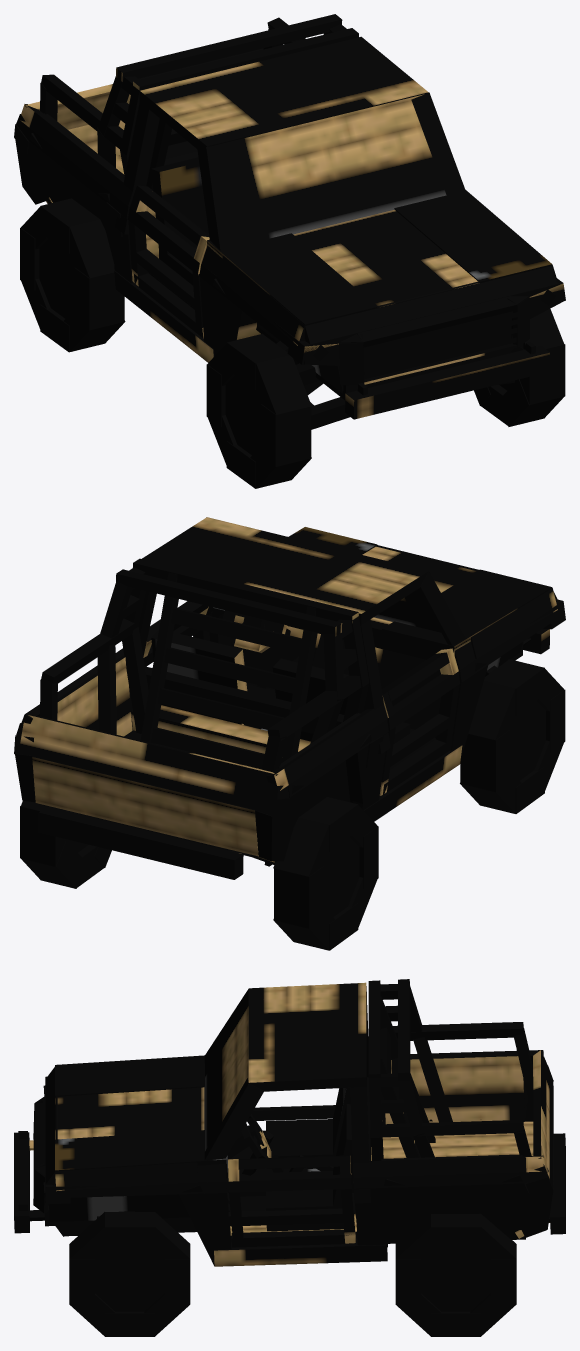
File: niva_arta.obj
3 renders of one model, top to bottom at view 1: azimuth 30°, elevation 25°; view 2: azimuth 150°, elevation 25°; view 3: azimuth 270°, elevation 25°, orthographic. The views are drawn at different scales.
Parts seen in each view (by area): view 1: body, w1, w2, w3; view 2: body, w2, w1, w4; view 3: body, w3, w4.
Boxes of the visible parts, left/top/right/bottom form: body: left=14, top=14, right=565, bottom=429; w1: left=206, top=333, right=311, bottom=488; w2: left=20, top=198, right=125, bottom=352; w3: left=474, top=309, right=565, bottom=426; body: left=14, top=517, right=565, bottom=879; w2: left=273, top=797, right=378, bottom=950; w1: left=460, top=659, right=565, bottom=813; w4: left=20, top=800, right=111, bottom=888; body: left=14, top=979, right=565, bottom=1266; w3: left=69, top=1212, right=190, bottom=1336; w4: left=395, top=1213, right=516, bottom=1336.
Size of the model in its own units: 2.33 by 2.19 by 4.4.
